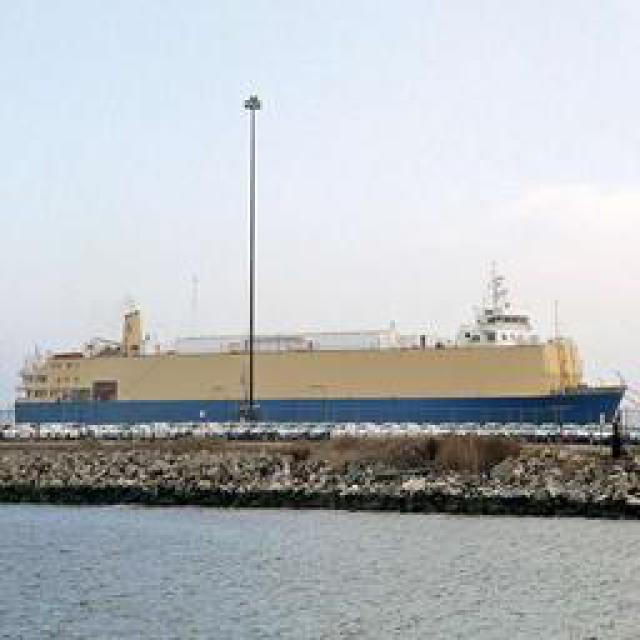Ship: (11, 300, 636, 434)
